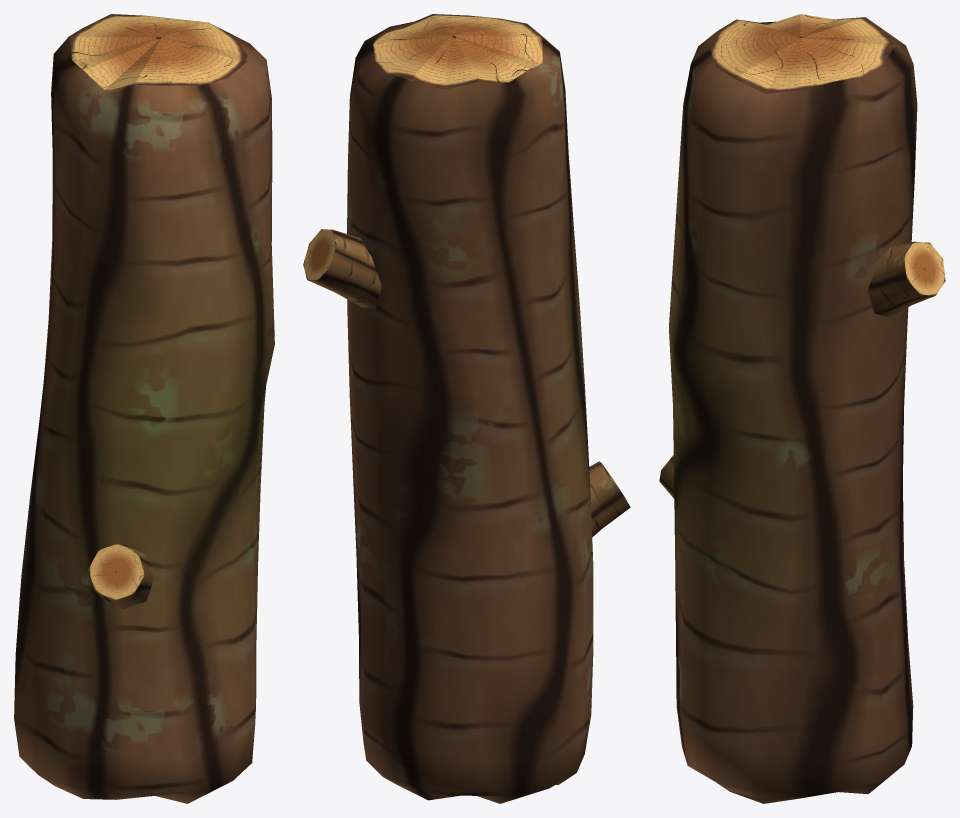
File: log.glb
The picture shows the model from 3 angles, left to right: view 1: azimuth 30°, elevation 25°; view 2: azimuth 150°, elevation 25°; view 3: azimuth 270°, elevation 25°; orthographic projection.
Visible parts, largest first — view 1: LogMesh; view 2: LogMesh; view 3: LogMesh.
Boxes of the visible parts, x1,y1,x2,y2 form: LogMesh: [14, 14, 274, 803]; LogMesh: [303, 14, 630, 803]; LogMesh: [659, 14, 945, 803].
Size of the model in its own units: 0.3586 by 1.12 by 0.39.
Materials: 2 (2 with a texture image).
